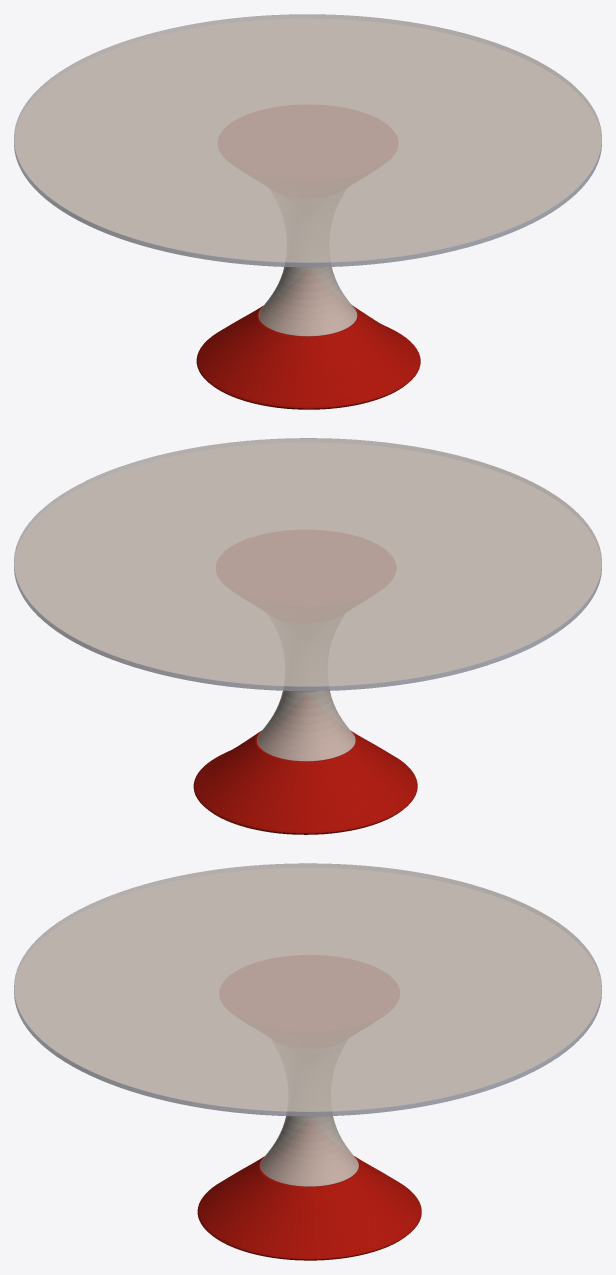
Rendered from Table Compar Lucas N040820.obj.
The picture shows the model from 3 angles, top to bottom: view 1: azimuth 30°, elevation 25°; view 2: azimuth 150°, elevation 25°; view 3: azimuth 270°, elevation 25°; orthographic projection.
Visible parts, largest first — view 1: Steklo, Osnova; view 2: Steklo, Osnova; view 3: Steklo, Osnova.
Part boxes in pixels (<box>): Steklo: <box>14,14,601,336</box>; Osnova: <box>196,305,420,409</box>; Steklo: <box>14,438,601,761</box>; Osnova: <box>193,730,417,834</box>; Steklo: <box>14,863,601,1186</box>; Osnova: <box>197,1156,421,1260</box>.
Size of the model in its own units: 18256 by 7734 by 18256.
